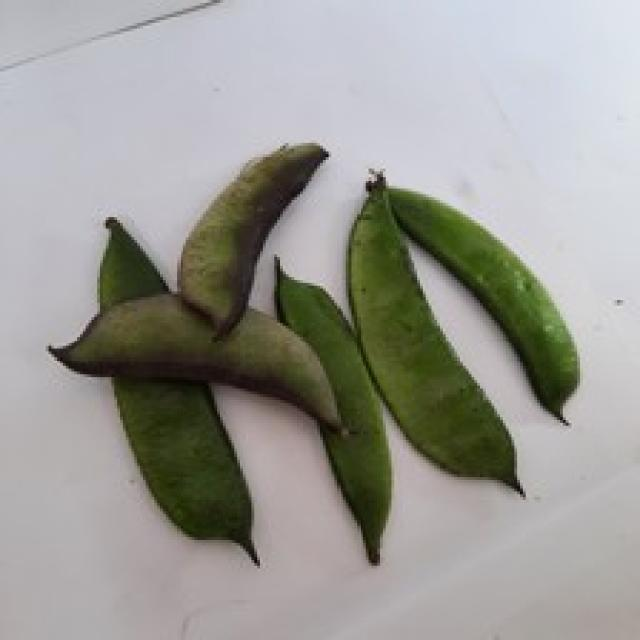Bean: (346, 169, 526, 497), (97, 214, 260, 566), (383, 180, 580, 426), (272, 254, 392, 563), (174, 137, 329, 340)
